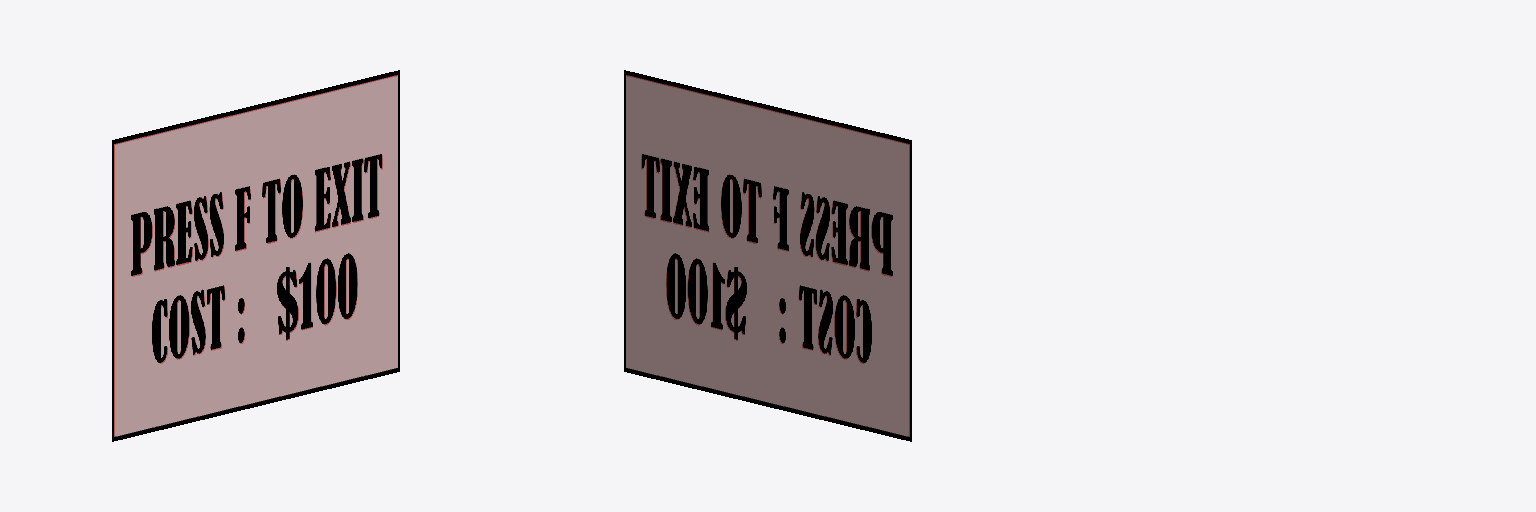
3 renders of one model, left to right at view 1: azimuth 30°, elevation 25°; view 2: azimuth 150°, elevation 25°; view 3: azimuth 270°, elevation 25°, orthographic.
Visible parts, largest first — view 1: Plane; view 2: Plane; view 3: none.
Boxes of the visible parts, x1,y1,x2,y2 form: Plane: [112, 70, 399, 441]; Plane: [624, 70, 911, 441].
Bounding box in the file's own units: 0.4 × 0.4 × 0.
1 materials, 1 textured.